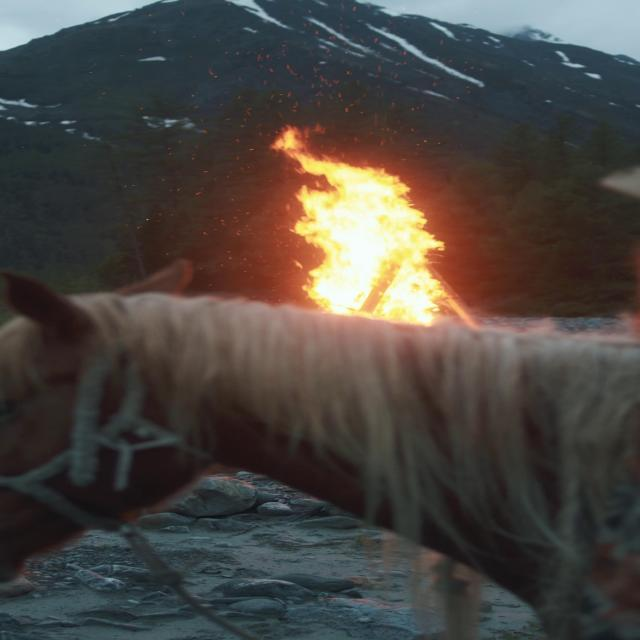Fire: (274, 121, 451, 330)
